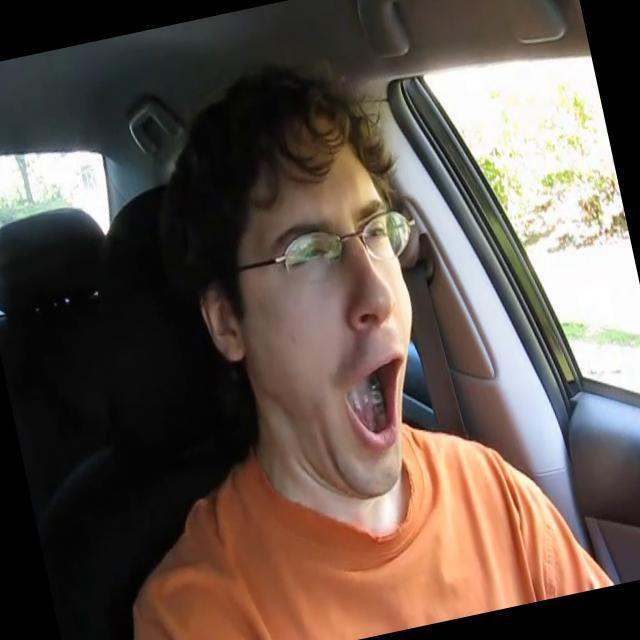open-mouth: (344, 354, 402, 444)
